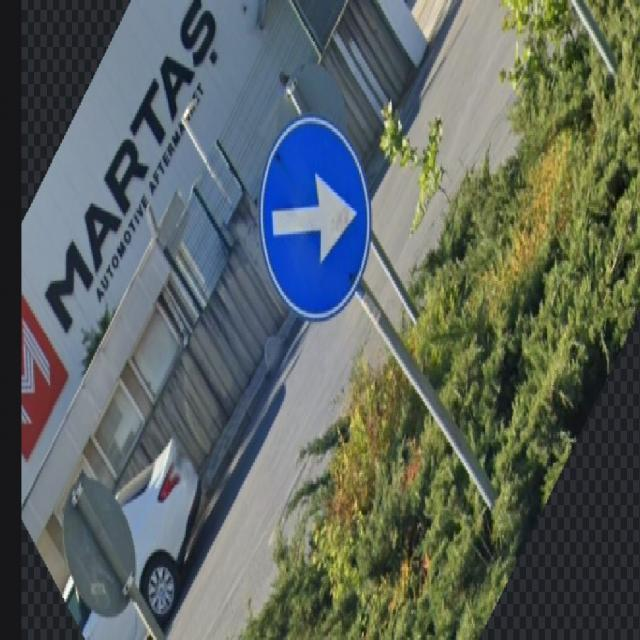Turn Right: (254, 112, 374, 316)
